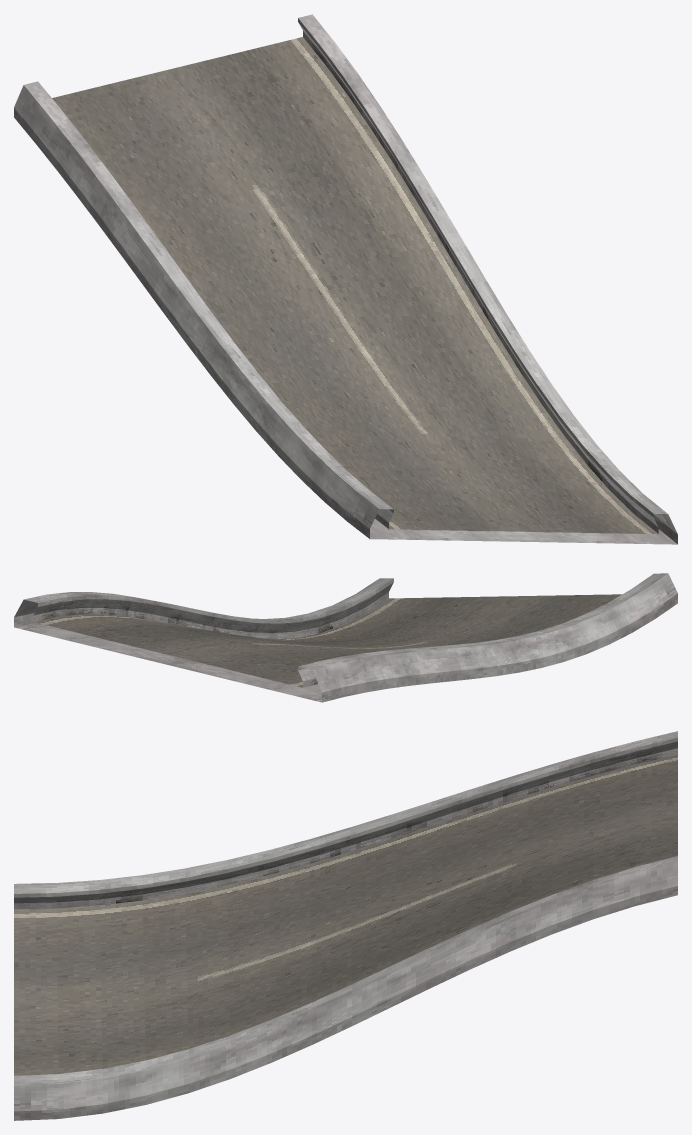
The model's file is straight2.glb.
3 views of the same model, one above another, from view 1: azimuth 30°, elevation 25°; view 2: azimuth 150°, elevation 25°; view 3: azimuth 270°, elevation 25° (orthographic). The views are drawn at different scales.
Parts seen in each view (by area): view 1: road-Straight-HalfBankedRight-BiSlopeUp-Up3-Center-Size2; view 2: road-Straight-HalfBankedRight-BiSlopeUp-Up3-Center-Size2; view 3: road-Straight-HalfBankedRight-BiSlopeUp-Up3-Center-Size2.
Part boxes in pixels (left/top/right/bottom): road-Straight-HalfBankedRight-BiSlopeUp-Up3-Center-Size2: left=14, top=14, right=677, bottom=544; road-Straight-HalfBankedRight-BiSlopeUp-Up3-Center-Size2: left=14, top=573, right=677, bottom=702; road-Straight-HalfBankedRight-BiSlopeUp-Up3-Center-Size2: left=14, top=731, right=677, bottom=1120.
Bounding box in the file's own units: 1 × 0.8437 × 2.
2 materials, 2 textured.
